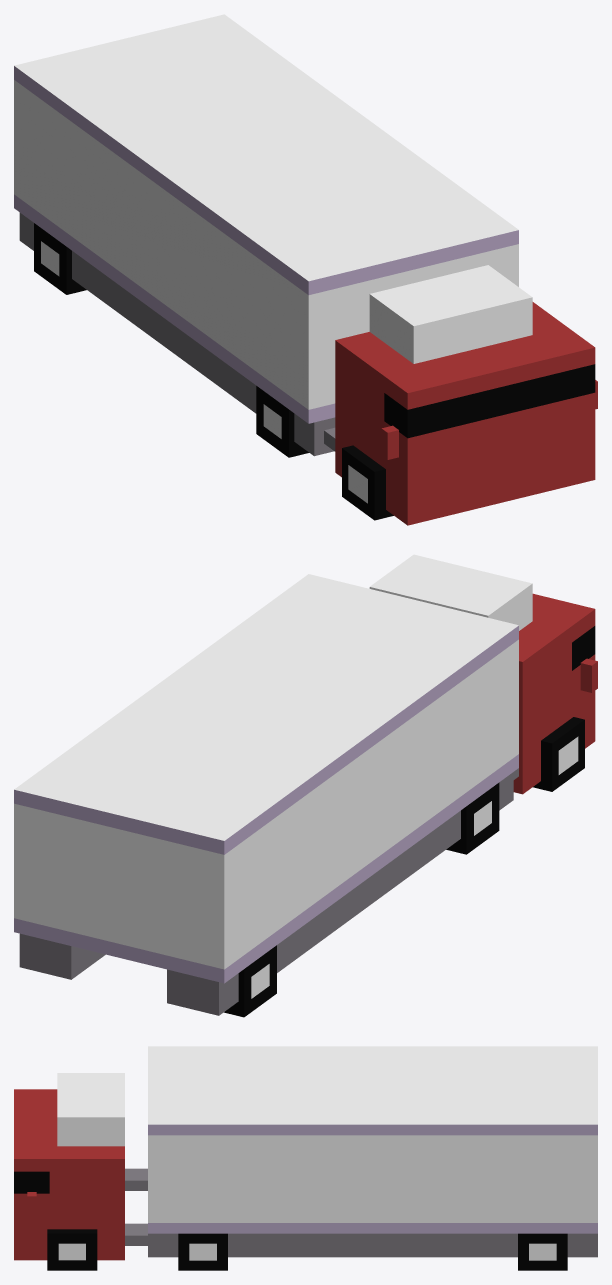
The model's file is DesignProjectTruck.fbx.
3 views of the same model, one above another, from view 1: azimuth 30°, elevation 25°; view 2: azimuth 150°, elevation 25°; view 3: azimuth 270°, elevation 25° (orthographic). The views are drawn at different scales.
Parts seen in each view (by area): view 1: Plane.003; view 2: Plane.003; view 3: Plane.003.
Boxes of the visible parts, x1,y1,x2,y2 form: Plane.003: (14, 14, 597, 525); Plane.003: (14, 554, 597, 1017); Plane.003: (14, 1046, 597, 1270).
Bounding box in the file's own units: 89.74 × 282 × 77.82.
